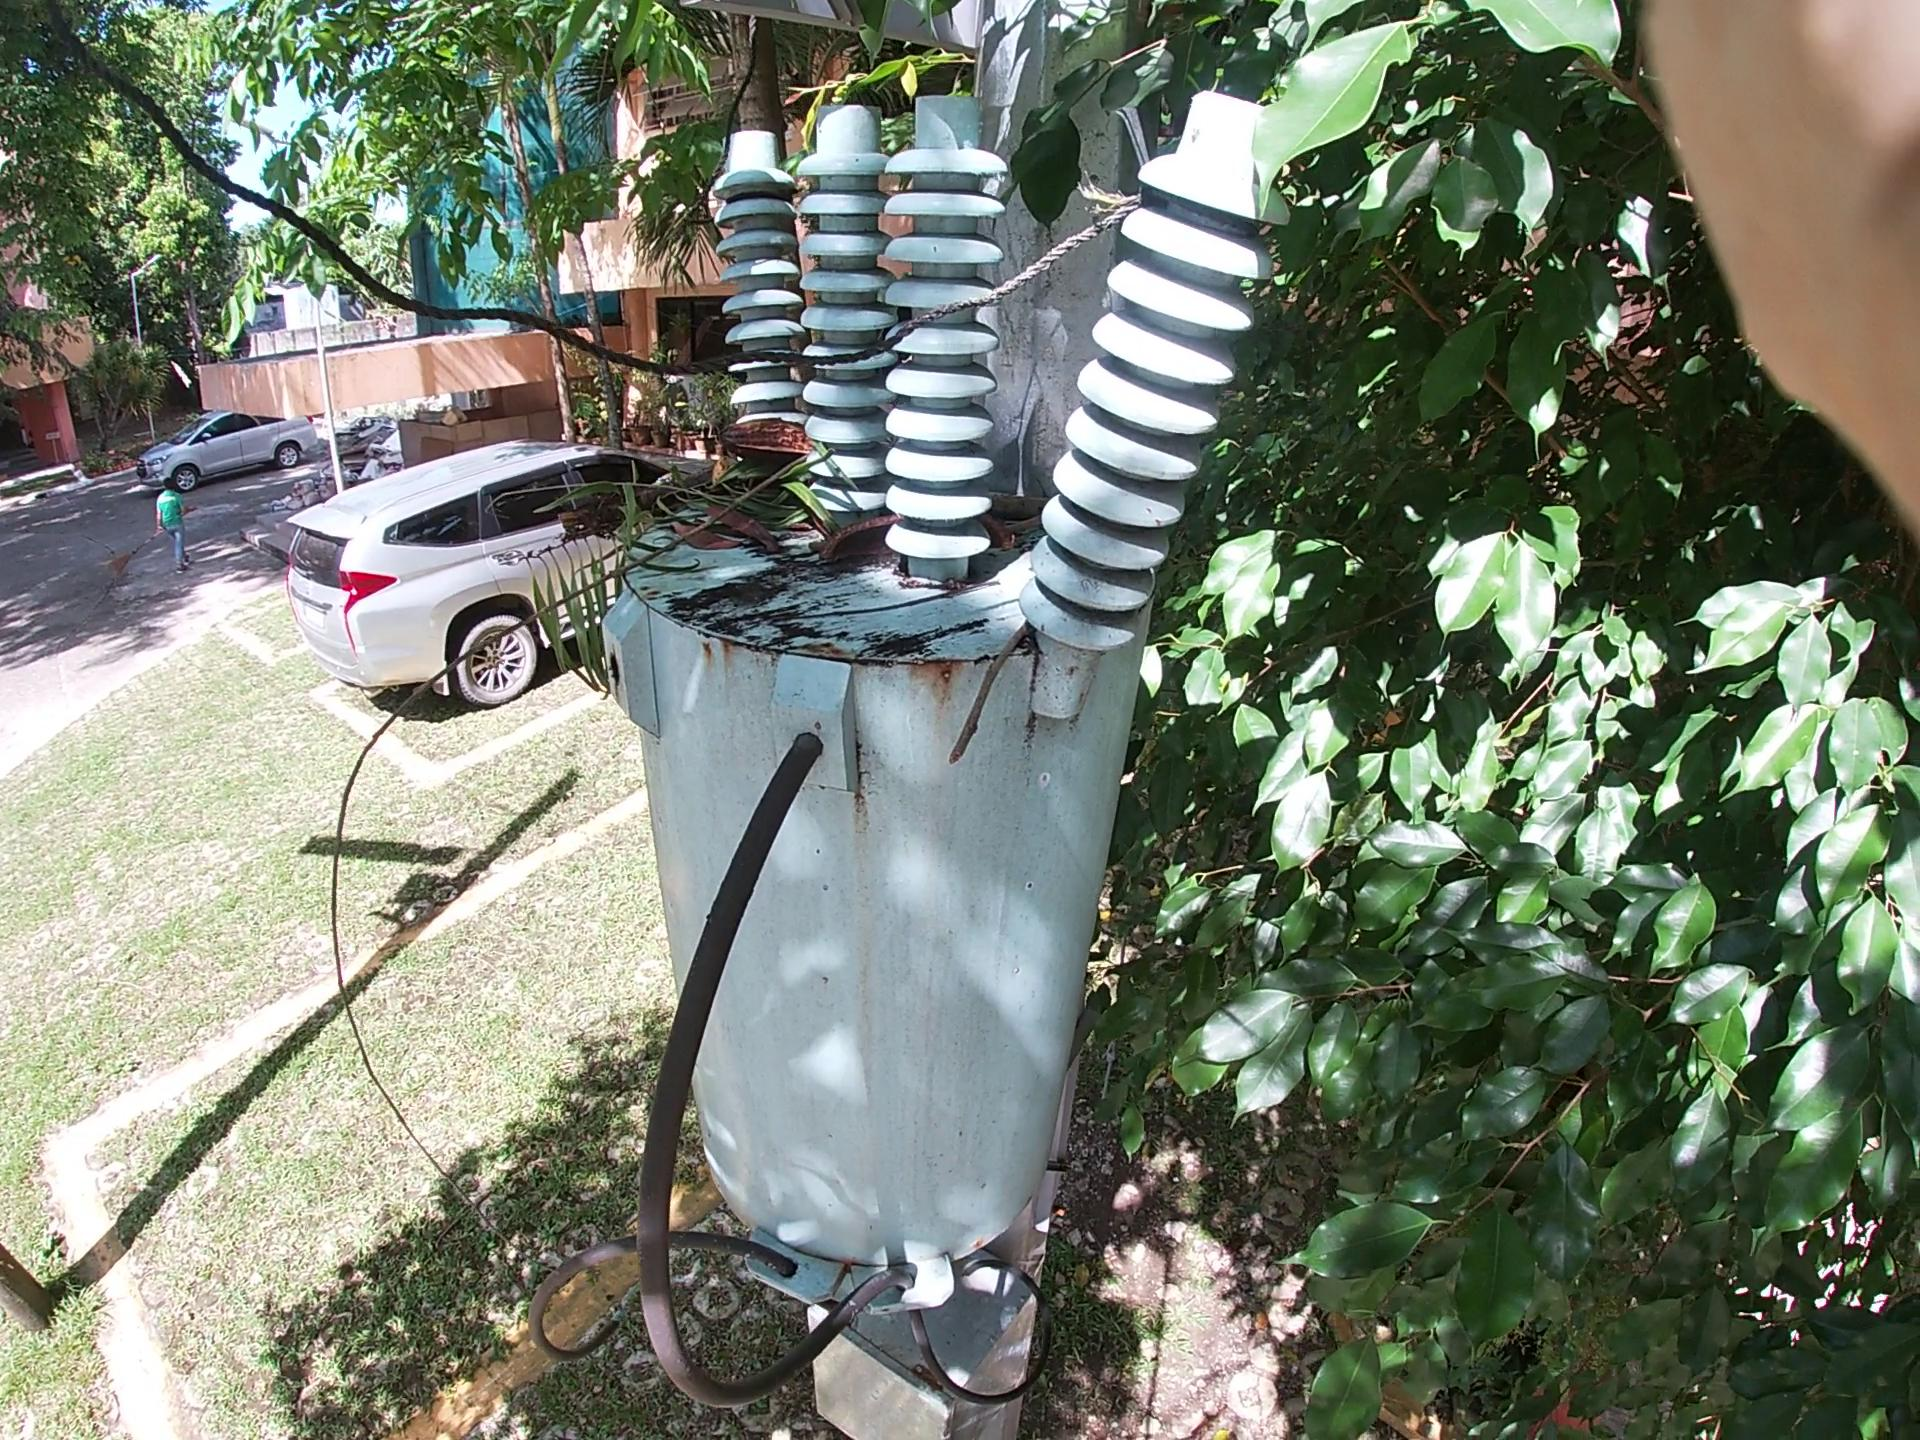branch with leaves: (517, 272, 1010, 632)
leaf: (671, 484, 803, 564)
mahogany fruit: (689, 380, 928, 495), (800, 483, 1048, 576)
tree branch: (330, 408, 884, 915), (962, 532, 1072, 784)
